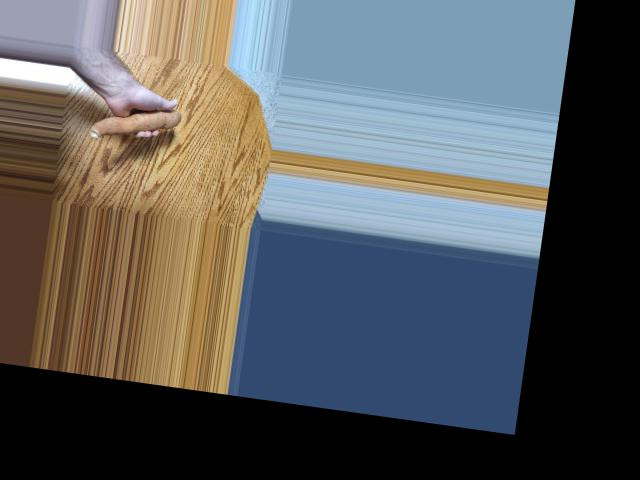sweet_potato: (90, 100, 183, 135)
